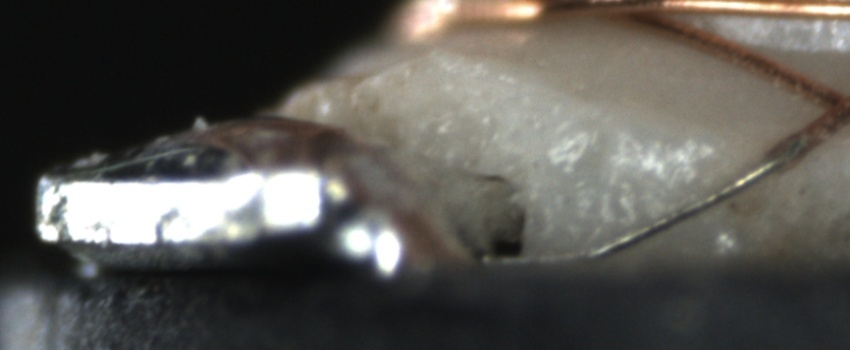CL: (802, 74, 850, 135)
TS: (483, 137, 811, 267)
TTCW: (492, 111, 840, 263)
